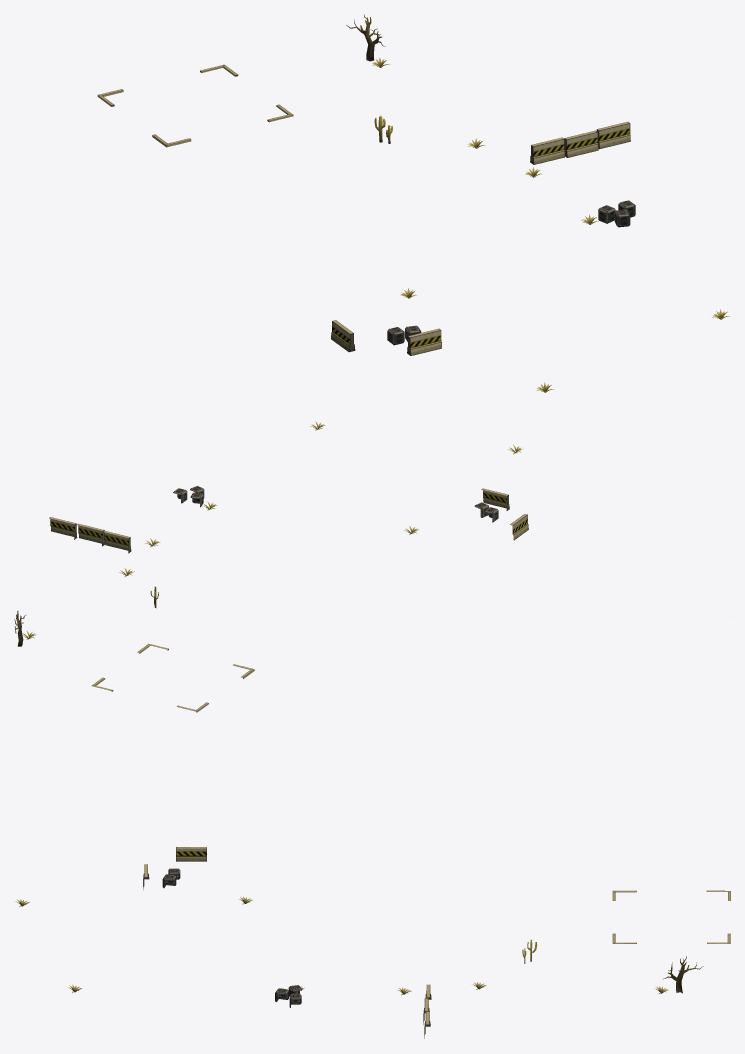
The model's file is T8_bush_tree_devider_env.fbx.
The picture shows the model from 3 angles, top to bottom: view 1: azimuth 30°, elevation 25°; view 2: azimuth 150°, elevation 25°; view 3: azimuth 270°, elevation 25°; orthographic projection. The views are drawn at different scales.
Parts seen in each view (by area): view 1: army_base_01, pCube150, pCube154, pCube157, pCube160; view 2: army_base_01; view 3: army_base_01.
Boxes of the visible parts, <box> form: army_base_01: <box>346,14,729,392</box>; pCube150: <box>407,328,441,355</box>; pCube154: <box>530,137,564,164</box>; pCube157: <box>564,130,598,157</box>; pCube160: <box>596,121,630,149</box>; army_base_01: <box>14,421,523,646</box>; army_base_01: <box>15,897,703,995</box>.
Size of the model in its own units: 446 by 25.94 by 453.
